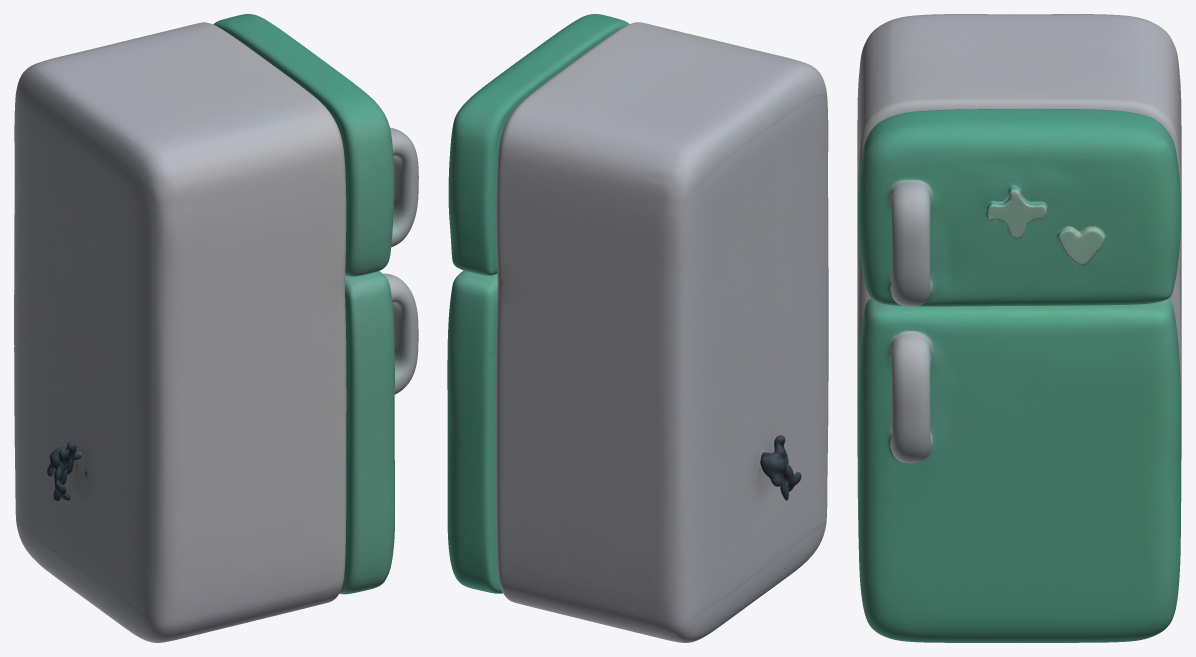
The model's file is FridgeMint.glb.
The picture shows the model from 3 angles, left to right: view 1: azimuth 30°, elevation 25°; view 2: azimuth 150°, elevation 25°; view 3: azimuth 270°, elevation 25°; orthographic projection. The views are drawn at different scales.
Parts seen in each view (by area): view 1: tripo_node_89c92b9e-68c4-478c-ac8e-459c6df1c4a5; view 2: tripo_node_89c92b9e-68c4-478c-ac8e-459c6df1c4a5; view 3: tripo_node_89c92b9e-68c4-478c-ac8e-459c6df1c4a5.
Part boxes in pixels (x1,y1,x2,y2): tripo_node_89c92b9e-68c4-478c-ac8e-459c6df1c4a5: [14, 14, 418, 642]; tripo_node_89c92b9e-68c4-478c-ac8e-459c6df1c4a5: [447, 14, 828, 642]; tripo_node_89c92b9e-68c4-478c-ac8e-459c6df1c4a5: [857, 14, 1181, 642].
Bounding box in the file's own units: 0.6527 × 1 × 0.5581.
Materials: 1 (1 with a texture image).
